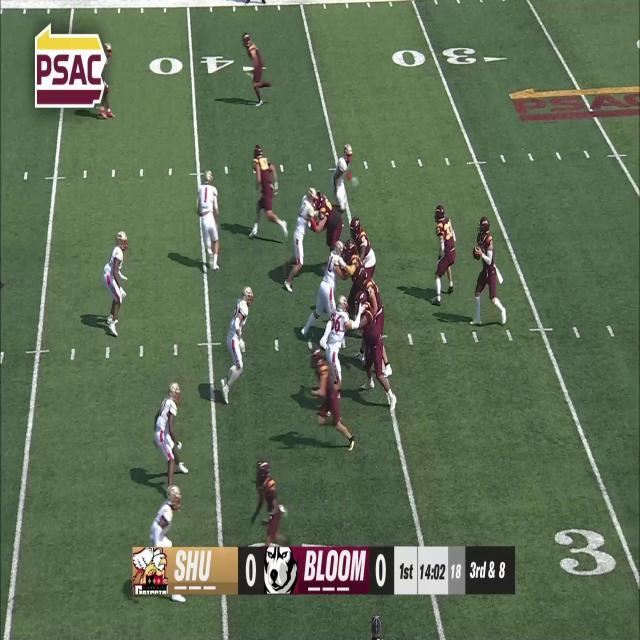football: (472, 246, 482, 260)
